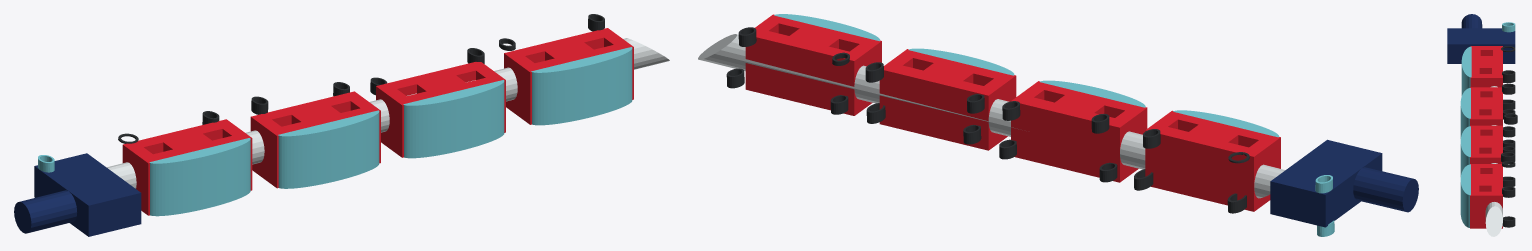
File: tinker.obj
3 views of the same model, side by side, from view 1: azimuth 30°, elevation 25°; view 2: azimuth 150°, elevation 25°; view 3: azimuth 270°, elevation 25° (orthographic). The views are drawn at different scales.
Visible parts, largest first — view 1: group_0_7720667, group_0_15277357, group_0_1650274, group_0_14541540, group_0_2829873; view 2: group_0_15277357, group_0_1650274, group_0_2829873, group_0_14541540, group_0_7720667; view 3: group_0_15277357, group_0_7720667, group_0_1650274, group_0_2829873, group_0_14541540.
Part boxes in pixels (bbox=[...]): group_0_7720667: bbox=[38, 47, 632, 216]; group_0_15277357: bbox=[122, 28, 633, 215]; group_0_1650274: bbox=[14, 153, 141, 236]; group_0_14541540: bbox=[107, 38, 669, 188]; group_0_2829873: bbox=[118, 14, 604, 143]; group_0_15277357: bbox=[745, 14, 1280, 211]; group_0_1650274: bbox=[1270, 139, 1418, 227]; group_0_2829873: bbox=[726, 27, 1249, 213]; group_0_14541540: bbox=[698, 34, 1285, 198]; group_0_7720667: bbox=[774, 14, 1334, 236]; group_0_15277357: bbox=[1470, 46, 1502, 228]; group_0_7720667: bbox=[1460, 22, 1515, 227]; group_0_1650274: bbox=[1447, 14, 1515, 63]; group_0_2829873: bbox=[1501, 46, 1517, 227]; group_0_14541540: bbox=[1485, 86, 1502, 236].
Bounding box in the file's own units: 466 × 42 × 68.
